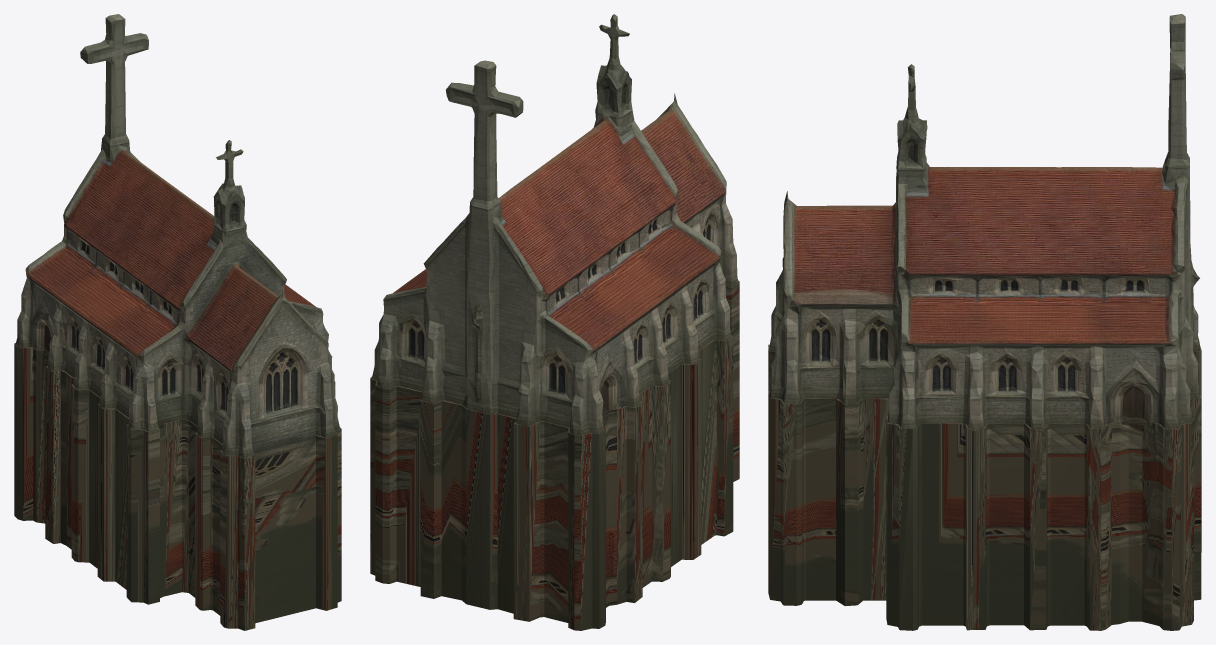
Rendered from church_b.glb.
The picture shows the model from 3 angles, left to right: view 1: azimuth 30°, elevation 25°; view 2: azimuth 150°, elevation 25°; view 3: azimuth 270°, elevation 25°; orthographic projection. The views are drawn at different scales.
Parts seen in each view (by area): view 1: church_b_export; view 2: church_b_export; view 3: church_b_export.
Part boxes in pixels (x1,y1,x2,y2): church_b_export: (14, 14, 341, 630); church_b_export: (370, 14, 739, 630); church_b_export: (768, 14, 1201, 630).
Size of the model in its own units: 22.88 by 50.95 by 36.
Materials: 2 (2 with a texture image).
